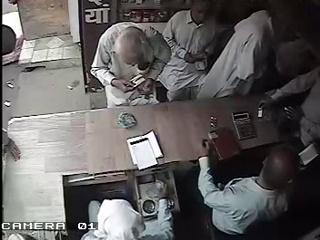Normal: (196, 142, 298, 238), (194, 2, 275, 100), (90, 21, 172, 108), (158, 0, 221, 102)
